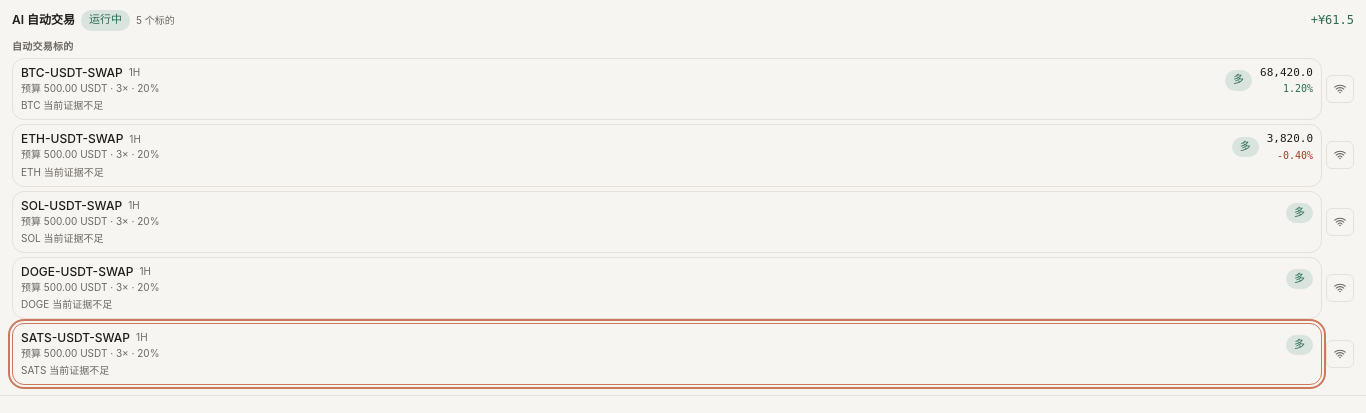
Test: AiTradePanel › 五成员各显示服务端原因，状态更新保留选择和成交
expect the number of elements with test id "ai-member-integrity" is 5: met, box x1=21 y1=99 x2=103 y2=111; x1=21 y1=166 x2=104 y2=178; x1=21 y1=232 x2=104 y2=244; x1=21 y1=298 x2=112 y2=310; x1=21 y1=364 x2=109 y2=376
Click the button "SATS 当前证据不足": [76, 337] box x1=12 y1=322 x2=1322 y2=384
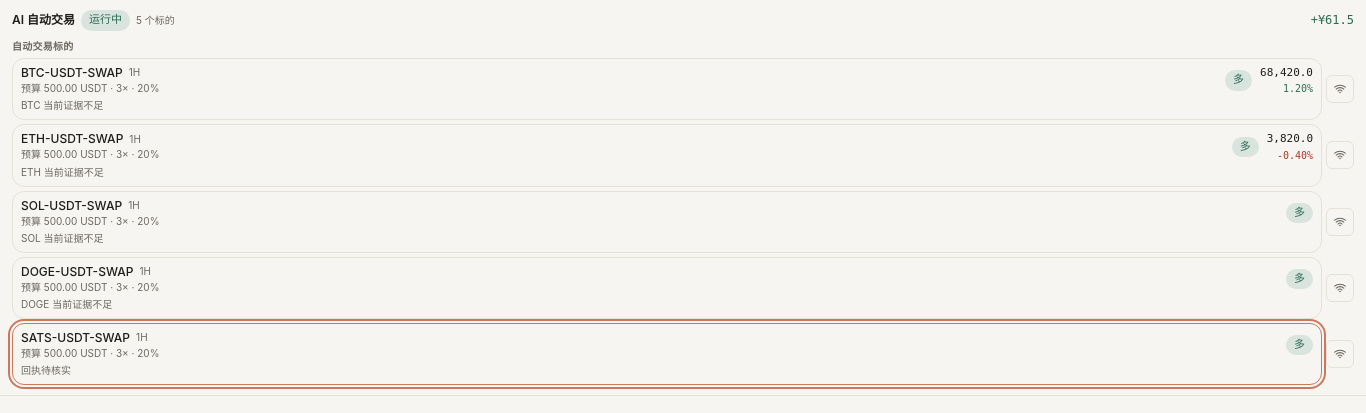
expect the text "SATS 当前证据不足" reads "回执待核实": met, box x1=21 y1=364 x2=71 y2=376
